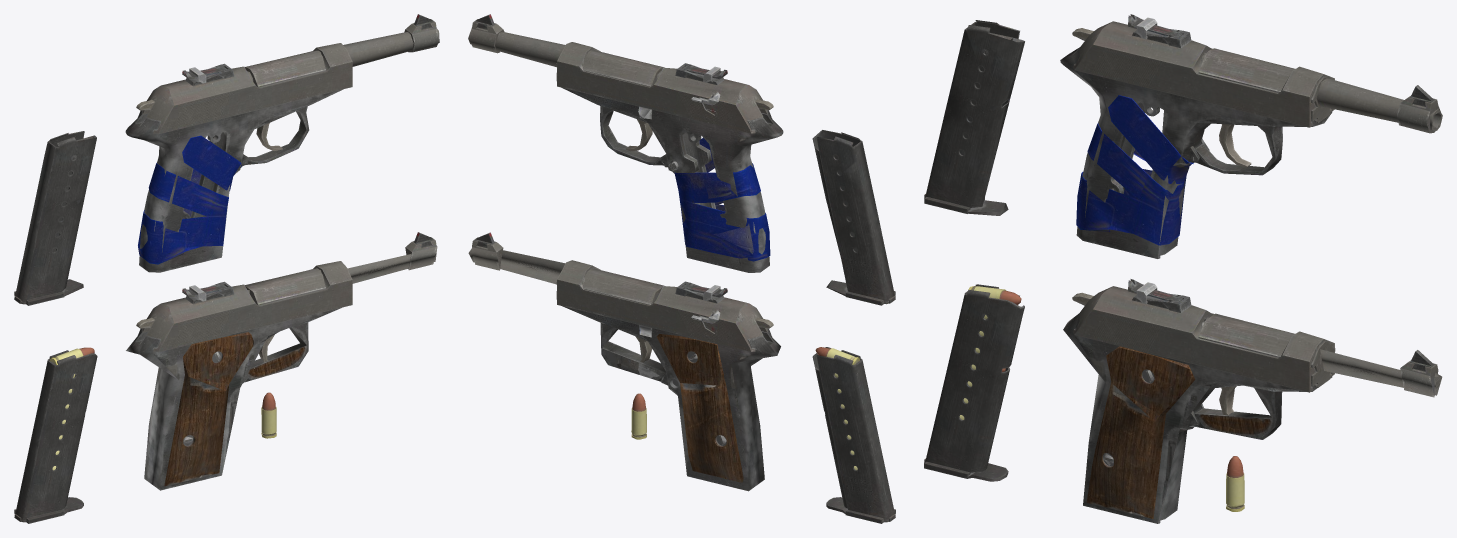
The model's file is pistol-DAzmKNF2.glb.
3 views of the same model, side by side, from view 1: azimuth 30°, elevation 25°; view 2: azimuth 150°, elevation 25°; view 3: azimuth 330°, elevation 25° (orthographic). The views are drawn at different scales.
Visible parts, largest first — view 1: service_pistol_pistol_b, service_pistol_pistol_a, service_pistol_magazine_loaded, service_pistol_magazine_empty, service_pistol_slide_a, service_pistol_slide_b, service_pistol_bullet; view 2: service_pistol_pistol_b, service_pistol_pistol_a, service_pistol_magazine_loaded, service_pistol_magazine_empty, service_pistol_slide_b, service_pistol_slide_a, service_pistol_bullet; view 3: service_pistol_pistol_b, service_pistol_pistol_a, service_pistol_magazine_loaded, service_pistol_magazine_empty, service_pistol_slide_a, service_pistol_slide_b, service_pistol_bullet.
Part boxes in pixels (x1,y1,x2,y2): service_pistol_pistol_b: (125, 14, 439, 272); service_pistol_pistol_a: (126, 232, 437, 490); service_pistol_magazine_loaded: (14, 347, 97, 523); service_pistol_magazine_empty: (14, 131, 96, 305); service_pistol_slide_a: (142, 261, 352, 352); service_pistol_slide_b: (142, 43, 352, 134); service_pistol_bullet: (261, 392, 276, 438); service_pistol_pistol_b: (468, 14, 783, 272); service_pistol_pistol_a: (468, 232, 780, 491); service_pistol_magazine_loaded: (812, 347, 895, 523); service_pistol_magazine_empty: (812, 130, 895, 305); service_pistol_slide_b: (557, 42, 772, 133); service_pistol_slide_a: (557, 260, 771, 351); service_pistol_bullet: (631, 393, 646, 439); service_pistol_pistol_b: (1060, 47, 1442, 258); service_pistol_pistol_a: (1063, 313, 1442, 523); service_pistol_magazine_loaded: (924, 284, 1024, 481); service_pistol_magazine_empty: (924, 20, 1024, 215); service_pistol_slide_a: (1073, 279, 1334, 392); service_pistol_slide_b: (1073, 14, 1334, 127); service_pistol_bullet: (1226, 456, 1244, 511).
Bounding box in the file's own units: 0.3016 × 0.2807 × 0.0317.
1 material, 1 textured.
